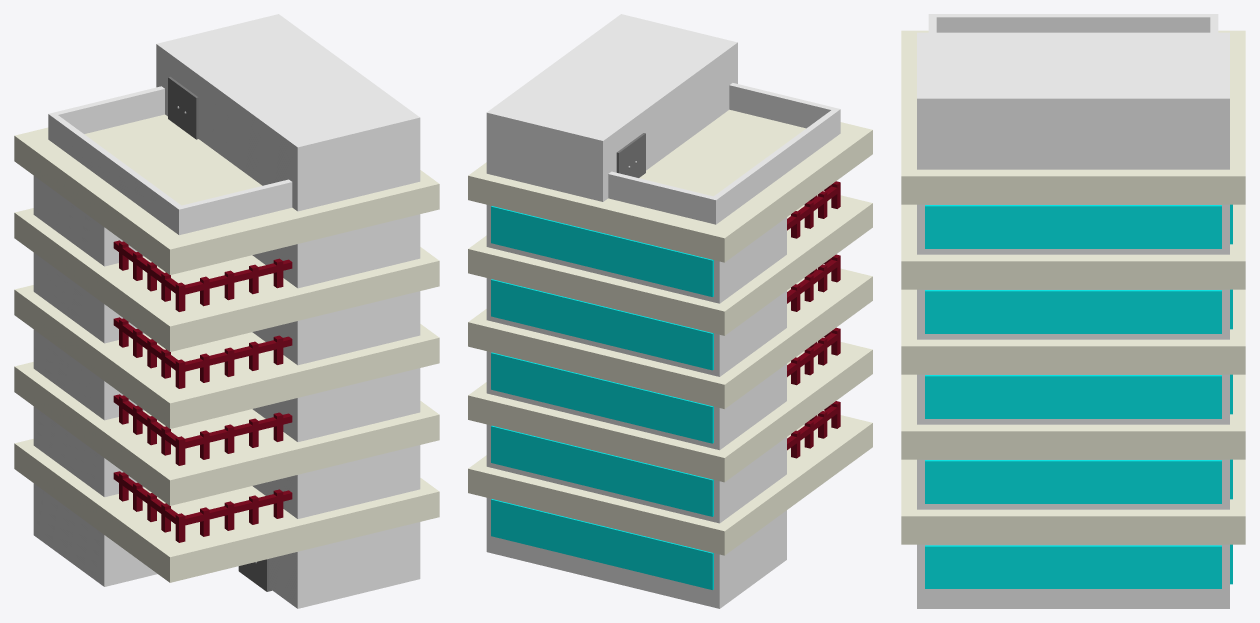
Rendered from mansion01.glb.
3 views of the same model, side by side, from view 1: azimuth 30°, elevation 25°; view 2: azimuth 150°, elevation 25°; view 3: azimuth 270°, elevation 25° (orthographic). The views are drawn at different scales.
Visible parts, largest first — view 1: pCube2, pCube7, pCube4, pCube5, pCube6, pCube3, pCube1, pCube23, pCube21, pCube22, pCube19.003, pCube19.002 (+8 smaller); view 2: pCube2, pCube7, pCube1, pCube3, pCube6, pCube4, pCube5, pCube9, pCube9.001, pCube9.002, pCube9.003, pCube9.004 (+4 smaller); view 3: pCube2, pCube7, pCube3, pCube4, pCube5, pCube6, pCube8, pCube8.001, pCube8.002, pCube8.003, pCube8.004, pCube23.
Part boxes in pixels (x1=…): pCube2: x1=156, y1=14, x2=420, y2=608; pCube7: x1=14, y1=114, x2=439, y2=274; pCube4: x1=14, y1=285, x2=439, y2=428; pCube5: x1=14, y1=362, x2=439, y2=505; pCube6: x1=14, y1=439, x2=439, y2=582; pCube3: x1=14, y1=208, x2=439, y2=351; pCube1: x1=33, y1=176, x2=157, y2=586; pCube23: x1=49, y1=112, x2=185, y2=233; pCube21: x1=175, y1=179, x2=292, y2=235; pCube22: x1=48, y1=86, x2=164, y2=141; pCube19.003: x1=182, y1=490, x2=292, y2=525; pCube19.002: x1=185, y1=413, x2=292, y2=448; pCube2: x1=486, y1=14, x2=737, y2=580; pCube7: x1=468, y1=109, x2=872, y2=262; pCube1: x1=603, y1=217, x2=786, y2=608; pCube3: x1=468, y1=191, x2=872, y2=335; pCube6: x1=468, y1=410, x2=872, y2=555; pCube4: x1=468, y1=264, x2=872, y2=409; pCube5: x1=468, y1=337, x2=872, y2=482; pCube9: x1=491, y1=425, x2=713, y2=516; pCube9.001: x1=491, y1=352, x2=713, y2=443; pCube9.002: x1=491, y1=279, x2=713, y2=370; pCube9.003: x1=491, y1=206, x2=713, y2=296; pCube9.004: x1=491, y1=499, x2=713, y2=589; pCube2: x1=917, y1=32, x2=1229, y2=608; pCube7: x1=901, y1=30, x2=1245, y2=204; pCube3: x1=901, y1=204, x2=1245, y2=289; pCube4: x1=901, y1=289, x2=1245, y2=374; pCube5: x1=901, y1=374, x2=1245, y2=459; pCube6: x1=901, y1=459, x2=1245, y2=544; pCube8: x1=925, y1=460, x2=1221, y2=503; pCube8.001: x1=925, y1=375, x2=1221, y2=418; pCube8.002: x1=925, y1=290, x2=1221, y2=333; pCube8.003: x1=925, y1=205, x2=1221, y2=248; pCube8.004: x1=925, y1=545, x2=1221, y2=588; pCube23: x1=929, y1=14, x2=1217, y2=32.
Size of the model in its own units: 4.4 by 7.25 by 4.4.
